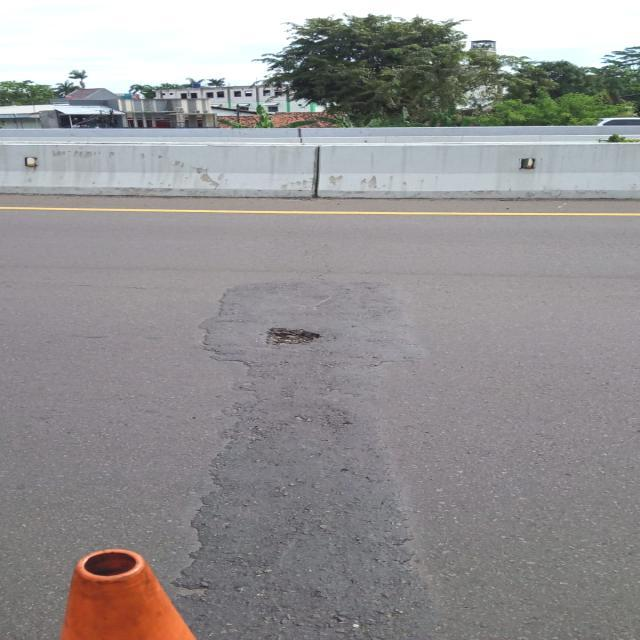Buraco: (262, 326, 327, 348)
